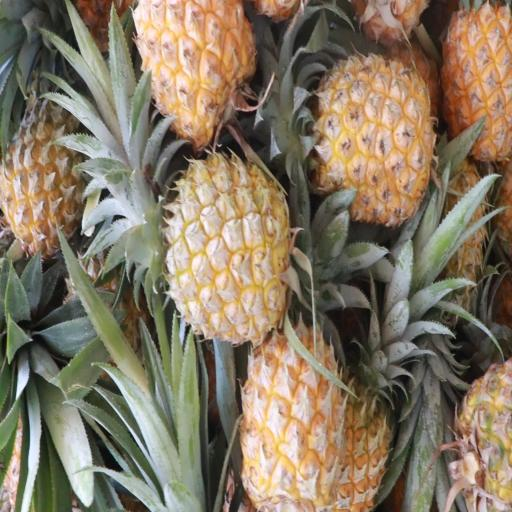Pineapple - v8 v1: (158, 149, 296, 352), (294, 52, 439, 225), (243, 295, 353, 512), (326, 272, 402, 512), (425, 6, 512, 154)
